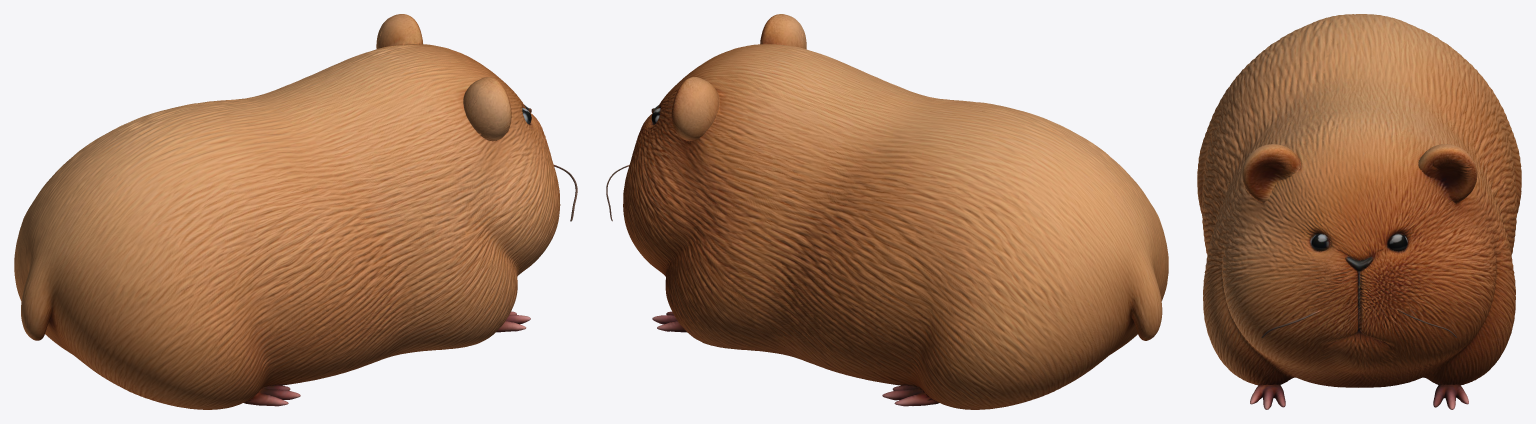
Rendered from cabin-cat.glb.
3 renders of one model, left to right at view 1: azimuth 30°, elevation 25°; view 2: azimuth 150°, elevation 25°; view 3: azimuth 270°, elevation 25°, orthographic.
Parts seen in each view (by area): view 1: tripo_node_473942bd-79e2-4f61-b800-80381d5644c5; view 2: tripo_node_473942bd-79e2-4f61-b800-80381d5644c5; view 3: tripo_node_473942bd-79e2-4f61-b800-80381d5644c5.
Boxes of the visible parts, left/top/right/bottom form: tripo_node_473942bd-79e2-4f61-b800-80381d5644c5: left=14, top=14, right=577, bottom=409; tripo_node_473942bd-79e2-4f61-b800-80381d5644c5: left=606, top=14, right=1168, bottom=409; tripo_node_473942bd-79e2-4f61-b800-80381d5644c5: left=1197, top=14, right=1521, bottom=409.
Bounding box in the file's own units: 0.9799 × 0.4486 × 0.5317.
1 material, 1 textured.
